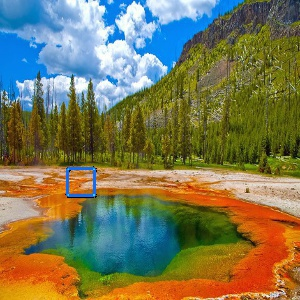square: (65, 166, 97, 199)
